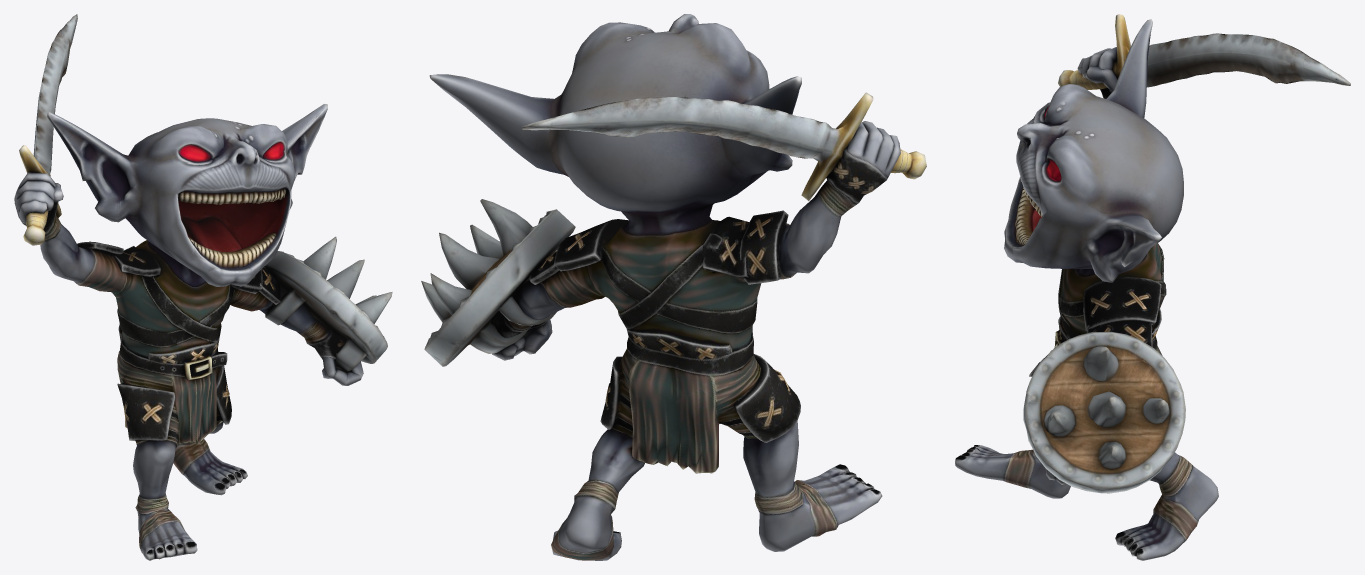
File: MZ4250 - Goblin (Gray).glb
3 views of the same model, side by side, from view 1: azimuth 30°, elevation 25°; view 2: azimuth 150°, elevation 25°; view 3: azimuth 270°, elevation 25° (orthographic). The views are drawn at different scales.
Visible parts, largest first — view 1: gob_low.001, shield_low.001, blade_low.001; view 2: gob_low.001, shield_low.001, blade_low.001; view 3: gob_low.001, shield_low.001, blade_low.001.
Boxes of the visible parts, left/top/right/bottom form: gob_low.001: left=14, top=104, right=363, bottom=560; shield_low.001: left=264, top=236, right=392, bottom=371; blade_low.001: left=19, top=14, right=77, bottom=245; gob_low.001: left=429, top=14, right=900, bottom=560; shield_low.001: left=421, top=199, right=575, bottom=366; blade_low.001: left=522, top=92, right=926, bottom=200; gob_low.001: left=955, top=19, right=1218, bottom=560; shield_low.001: left=1023, top=331, right=1185, bottom=493; blade_low.001: left=1058, top=14, right=1350, bottom=89.
Bounding box in the file's own units: 5.27 × 5.76 × 4.52.
Materials: 1 (1 with a texture image).
